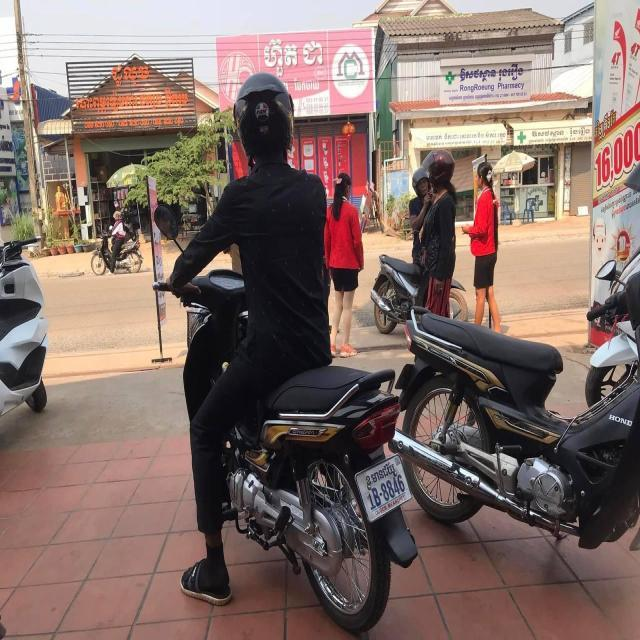Oudor_Meanchey: (366, 462, 395, 485)
